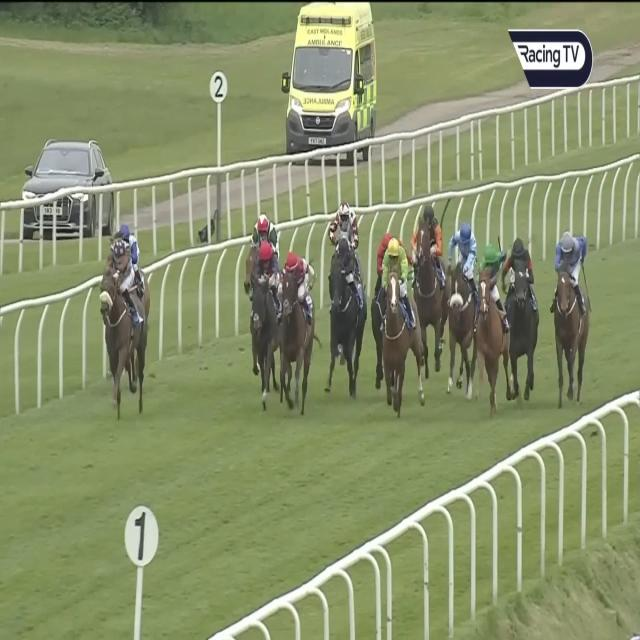horses-racing: (327, 196, 364, 379), (556, 228, 590, 396), (279, 243, 315, 399), (107, 240, 139, 398), (413, 201, 445, 358), (448, 222, 481, 366), (384, 239, 410, 411), (252, 241, 279, 395), (478, 242, 501, 411), (506, 235, 531, 388), (116, 222, 149, 306), (250, 209, 276, 277), (375, 230, 395, 296)
